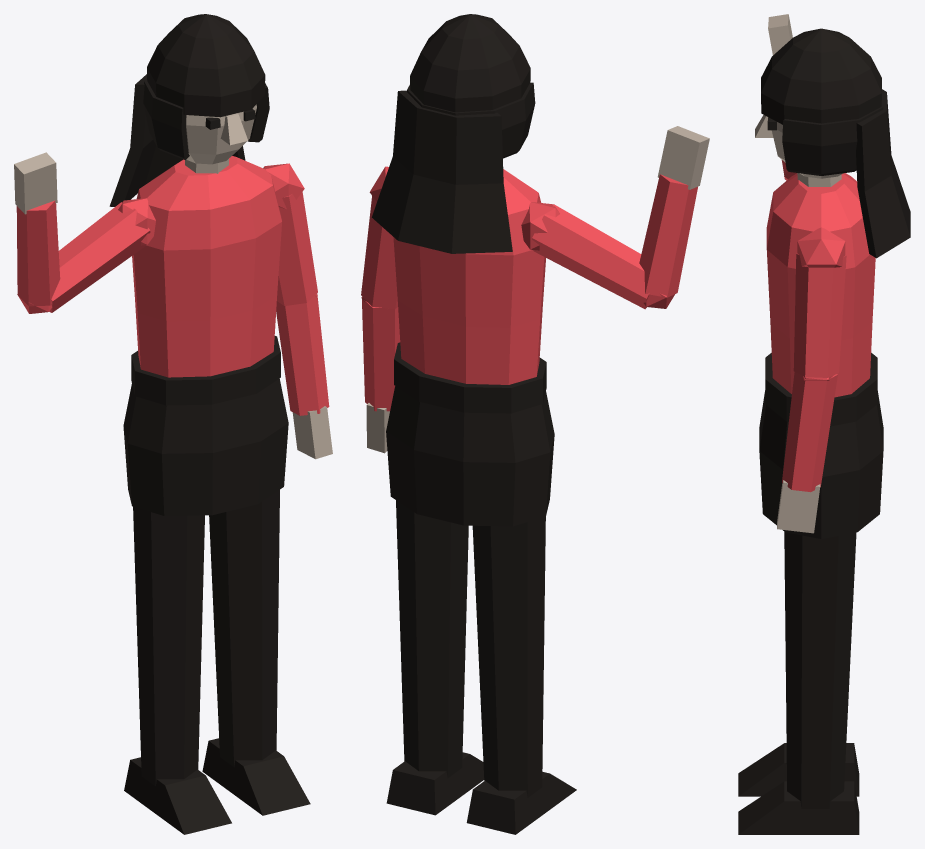
3 views of the same model, side by side, from view 1: azimuth 30°, elevation 25°; view 2: azimuth 150°, elevation 25°; view 3: azimuth 270°, elevation 25° (orthographic). The views are drawn at different scales.
Parts seen in each view (by area): view 1: ana; view 2: ana; view 3: ana.
Part boxes in pixels (box(x1,y1,x2,y2)): ana: box(14, 14, 332, 834); ana: box(361, 14, 709, 834); ana: box(738, 14, 910, 834).
Bounding box in the file's own units: 0.7273 × 1.7 × 0.3421.
